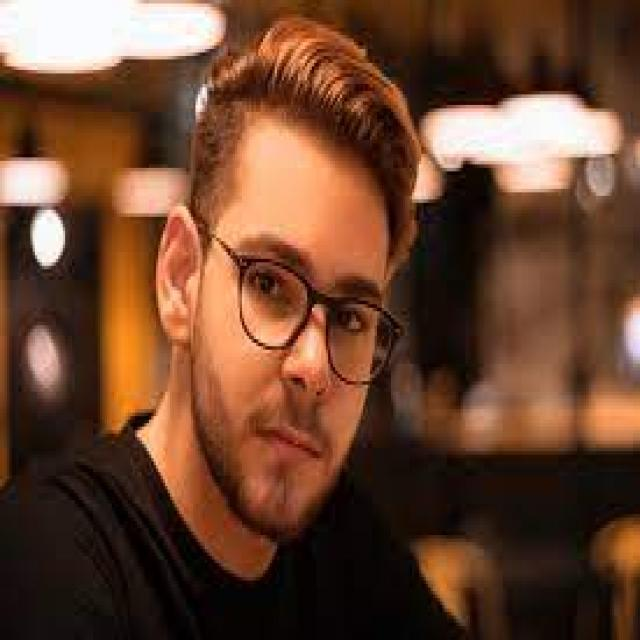Glasses: (207, 226, 408, 394)
